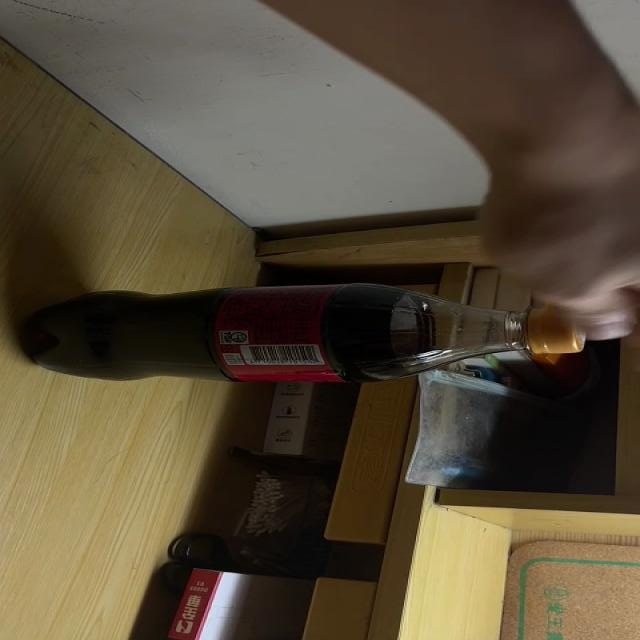Coca-Cola: (24, 286, 590, 384)
